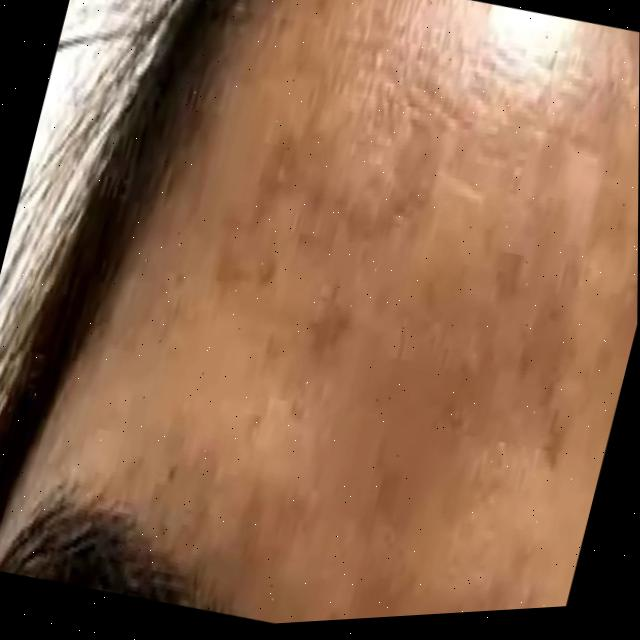Melasma: (209, 13, 632, 422)
